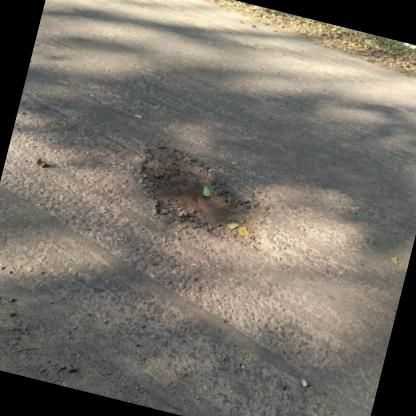pothole: (122, 138, 282, 252)
